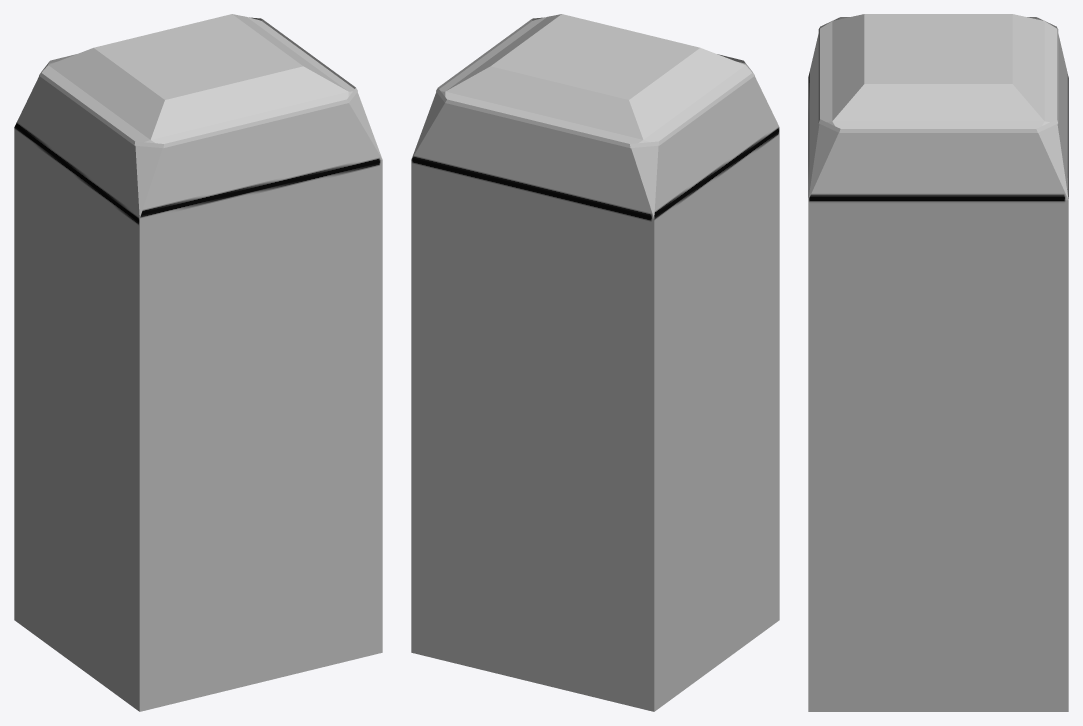
The model's file is scylo 1.fbx.
3 views of the same model, side by side, from view 1: azimuth 30°, elevation 25°; view 2: azimuth 150°, elevation 25°; view 3: azimuth 270°, elevation 25° (orthographic). The views are drawn at different scales.
Parts seen in each view (by area): view 1: Cube; view 2: Cube; view 3: Cube.
Part boxes in pixels (<box>): Cube: <box>14,14,382,711</box>; Cube: <box>411,14,779,711</box>; Cube: <box>808,14,1068,711</box>.
Bounding box in the file's own units: 487 × 1110 × 436.
Materials: 1 (1 with a texture image).
